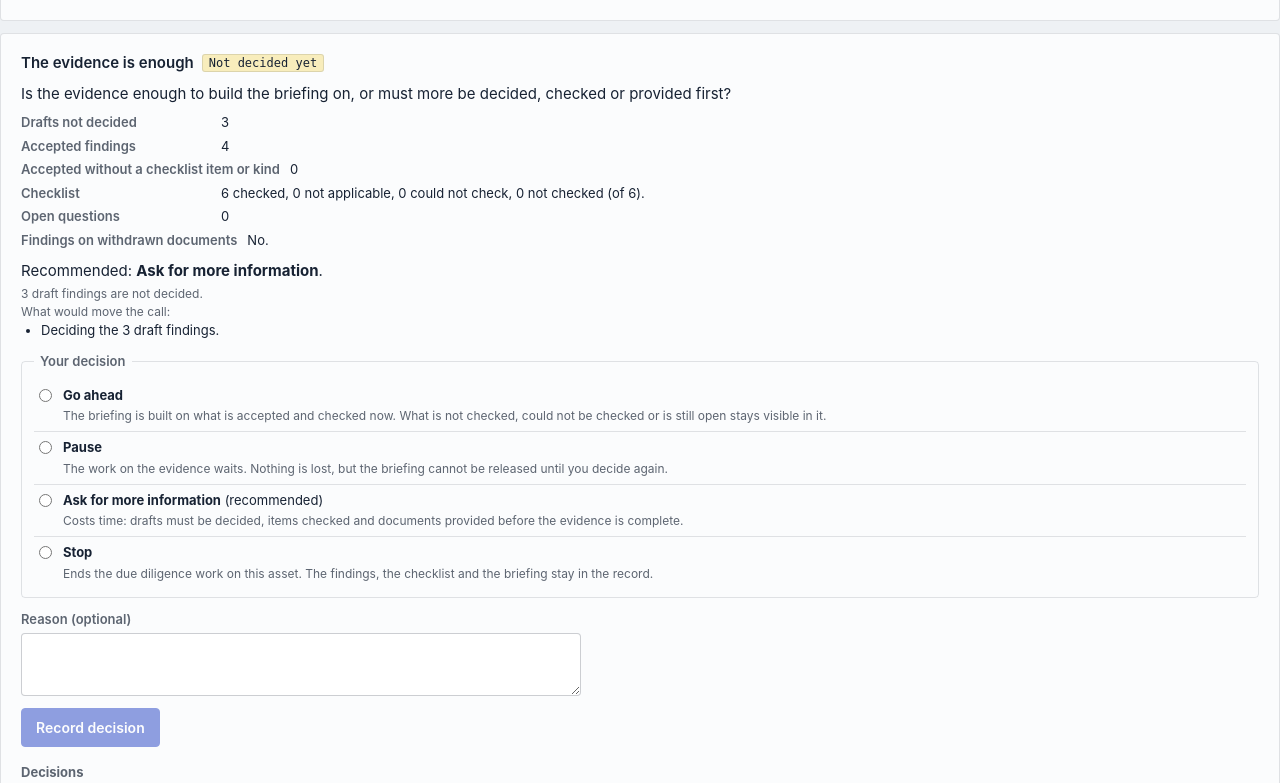
Test: GatesPanel: deciding › starts the form again from what is true when the facts change under it
(page scrolled)
Step 1. Click the radio button labelled "Go ahead" → [46, 395], box 39,389 -> 52,402
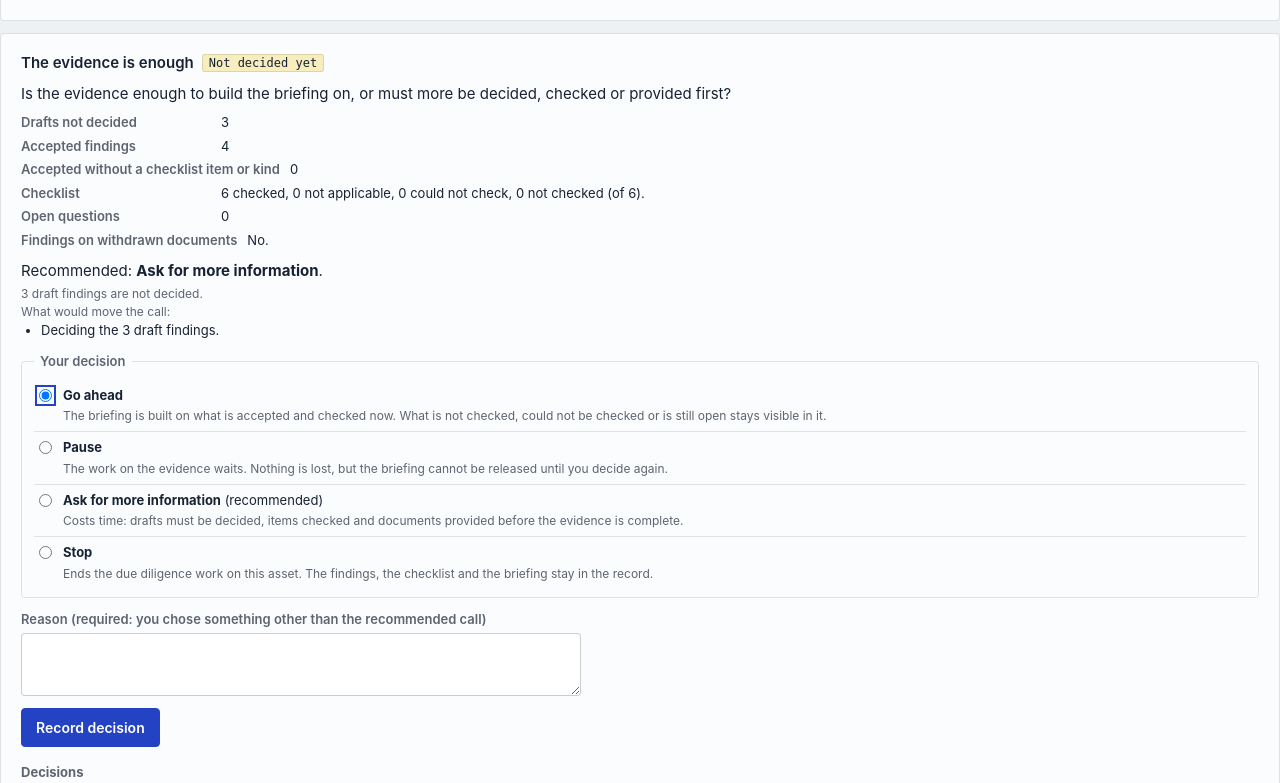
Step 2. Type "half written" into the text box labelled "Reason (required" → [301, 665], box 21,633 -> 581,696
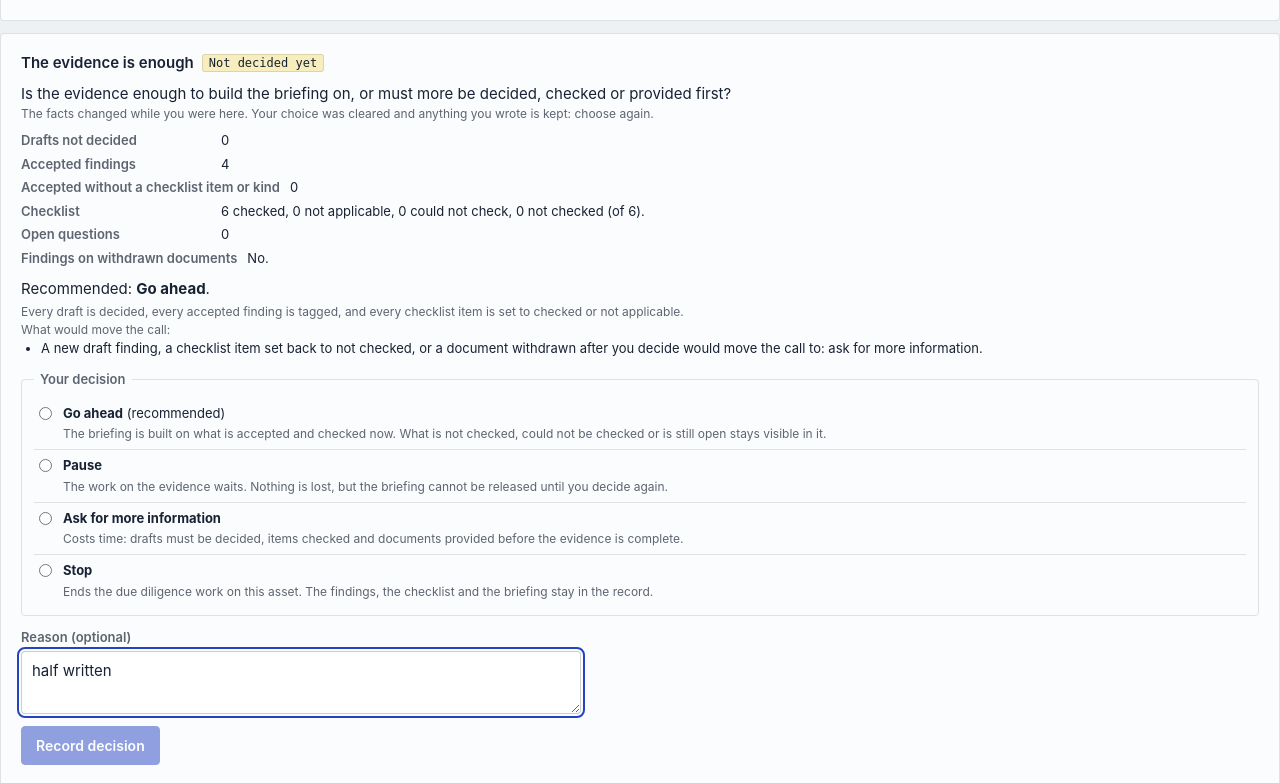
Expected: the text "Every draft is decided, every accepted finding is tagged, and every checklist item is set to checked or not applicable." is shown, 21,304 -> 684,319
